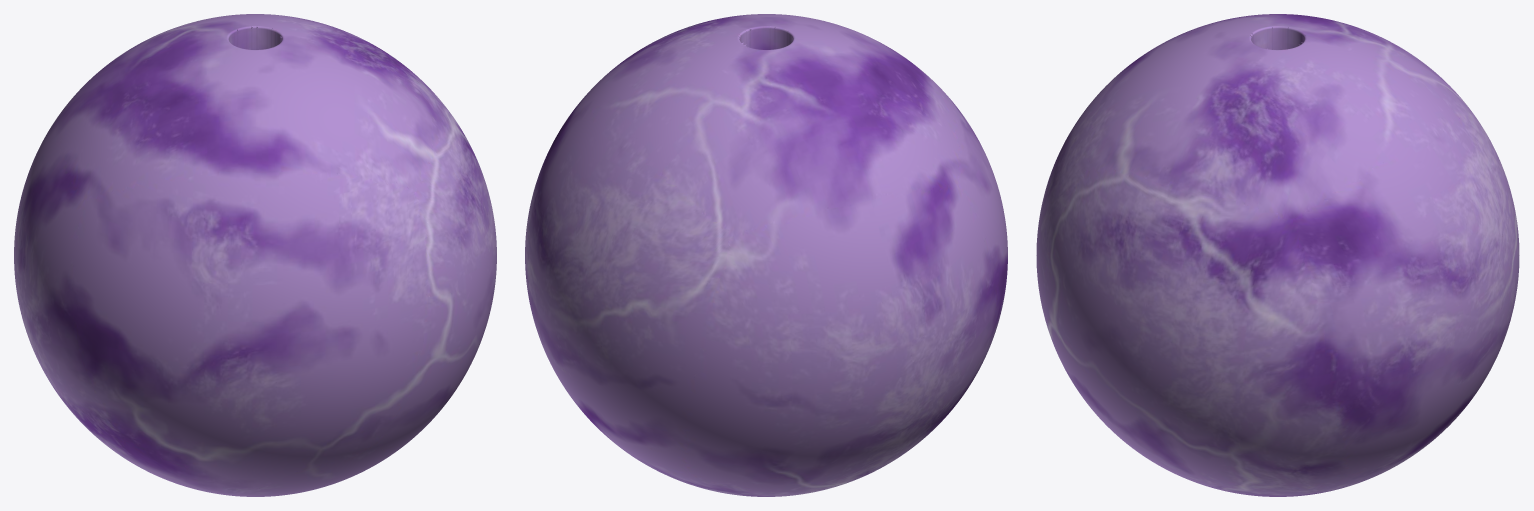
Rendered from stone-amethyst.glb.
3 views of the same model, side by side, from view 1: azimuth 30°, elevation 25°; view 2: azimuth 150°, elevation 25°; view 3: azimuth 270°, elevation 25° (orthographic).
Parts seen in each view (by area): view 1: Bead_hi; view 2: Bead_hi; view 3: Bead_hi.
Part boxes in pixels (left/top/right/bottom): Bead_hi: left=14, top=14, right=496, bottom=496; Bead_hi: left=525, top=14, right=1007, bottom=496; Bead_hi: left=1036, top=14, right=1519, bottom=496.
Size of the model in its own units: 1 by 0.9939 by 1.
Materials: 1 (1 with a texture image).
